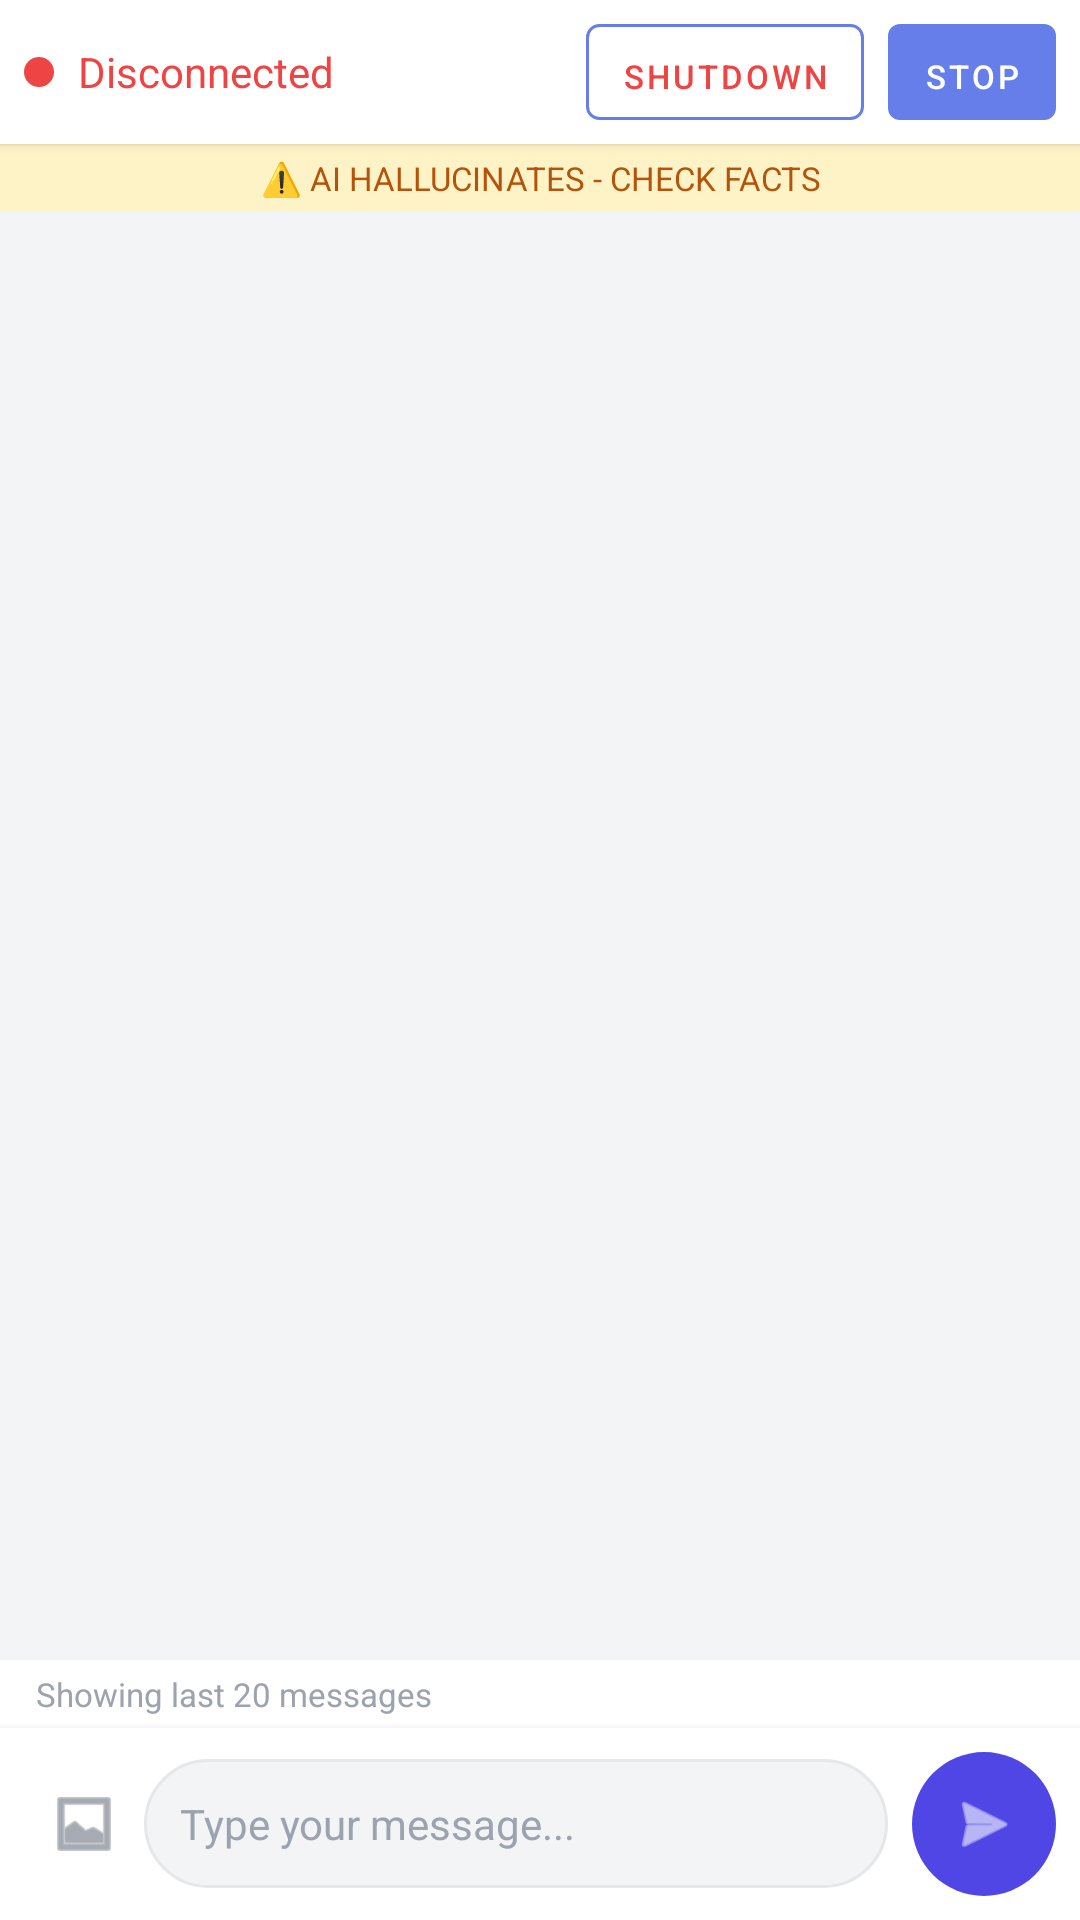

Icon click points for this 1080x1920 phone screenshot, format point (x, y):
Attach image: point (84, 1824)
Send: point (984, 1824)
